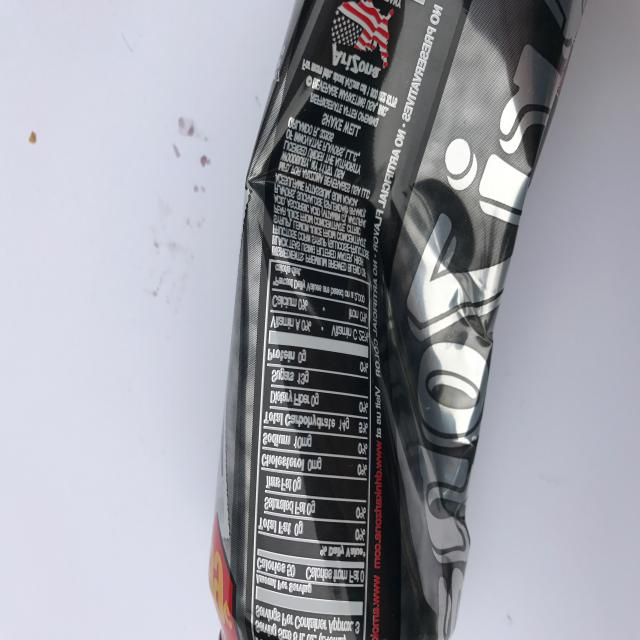metal: (207, 0, 588, 640)
